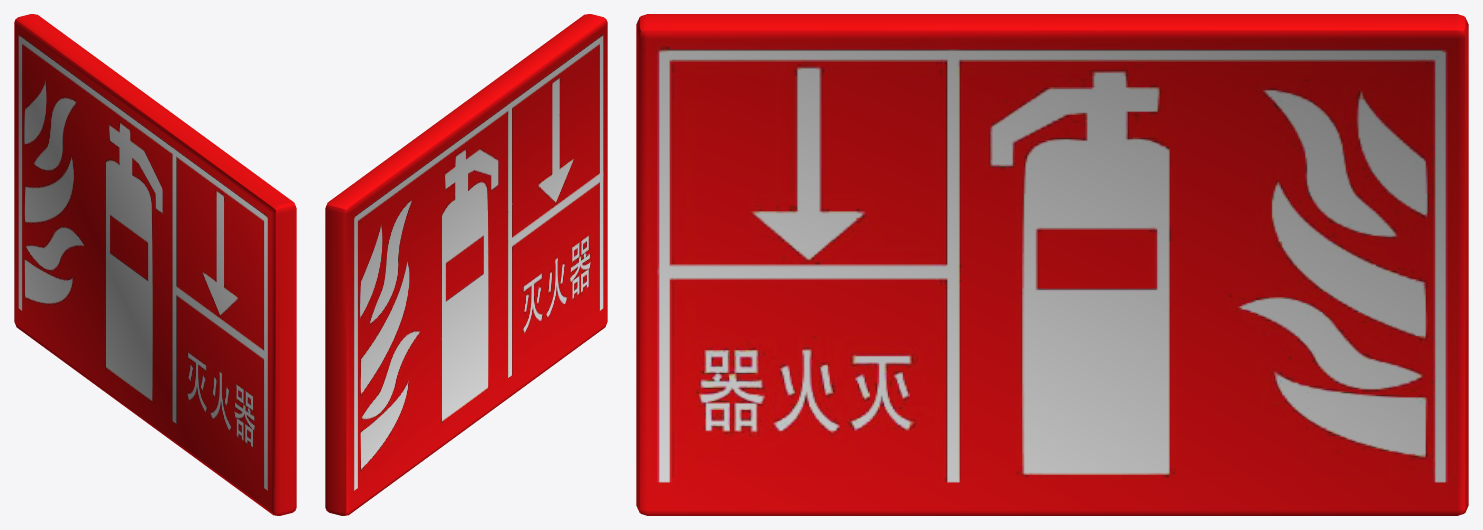
The model's file is fireControlSign.gltf.
3 renders of one model, left to right at view 1: azimuth 30°, elevation 25°; view 2: azimuth 150°, elevation 25°; view 3: azimuth 270°, elevation 25°, orthographic. The views are drawn at different scales.
Parts seen in each view (by area): view 1: 消防_指示牌02; view 2: 消防_指示牌02; view 3: 消防_指示牌02.
Part boxes in pixels (<box>): 消防_指示牌02: <box>14,14,296,515</box>; 消防_指示牌02: <box>325,14,607,515</box>; 消防_指示牌02: <box>636,14,1468,515</box>.
Size of the model in its own units: 0.0299 by 0.3593 by 0.5514.
1 material, 1 textured.
